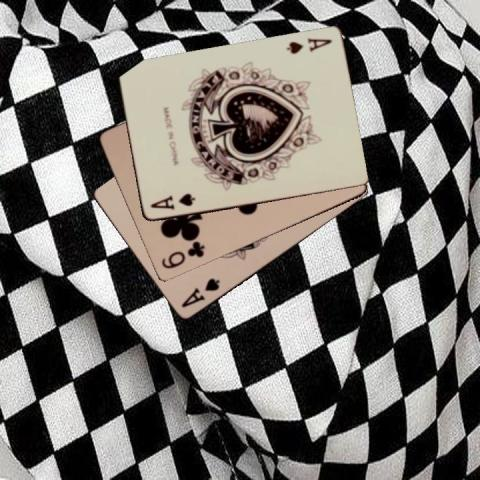6c: (158, 238, 206, 270)
As: (178, 275, 221, 310), (282, 35, 332, 56), (146, 191, 196, 211)
